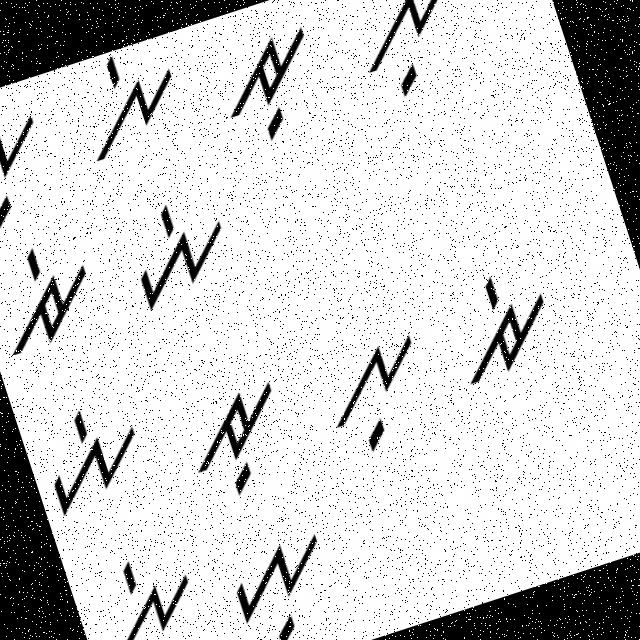le: (60, 34, 197, 172), (78, 540, 216, 639)
lu: (300, 320, 450, 472), (334, 0, 481, 114)
re: (433, 256, 576, 405), (0, 225, 113, 373)
ru: (158, 369, 308, 514), (204, 16, 340, 152)
ye: (22, 388, 165, 532), (110, 186, 253, 322)
yu: (0, 98, 67, 243)
